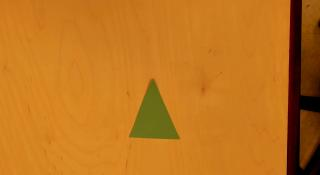Triangle: (128, 79, 180, 139)
